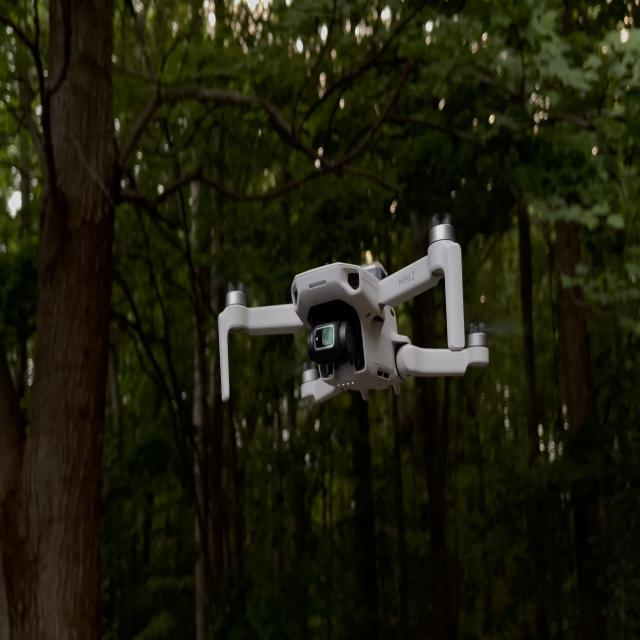Drone: (211, 219, 486, 399)
